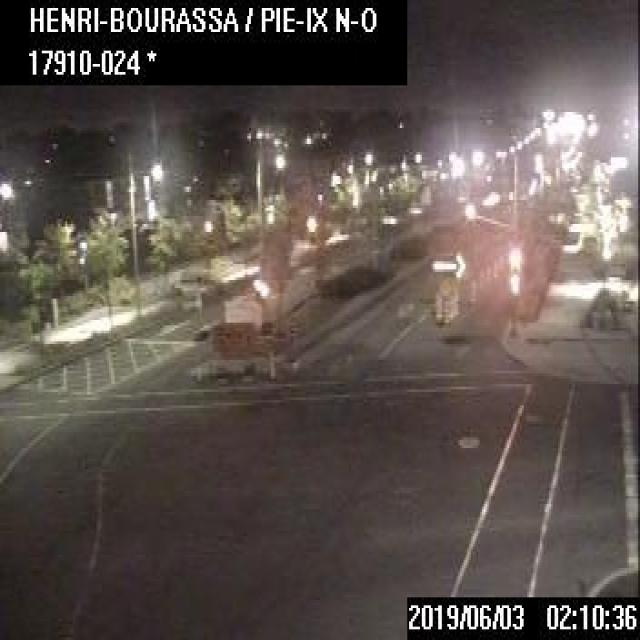construction: (193, 293, 276, 384), (429, 246, 464, 326), (467, 276, 475, 302), (441, 296, 449, 322), (434, 291, 440, 322)
